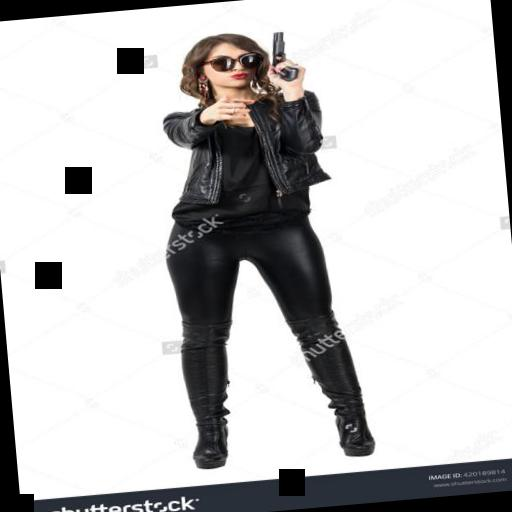Handgun: (266, 26, 302, 82)
